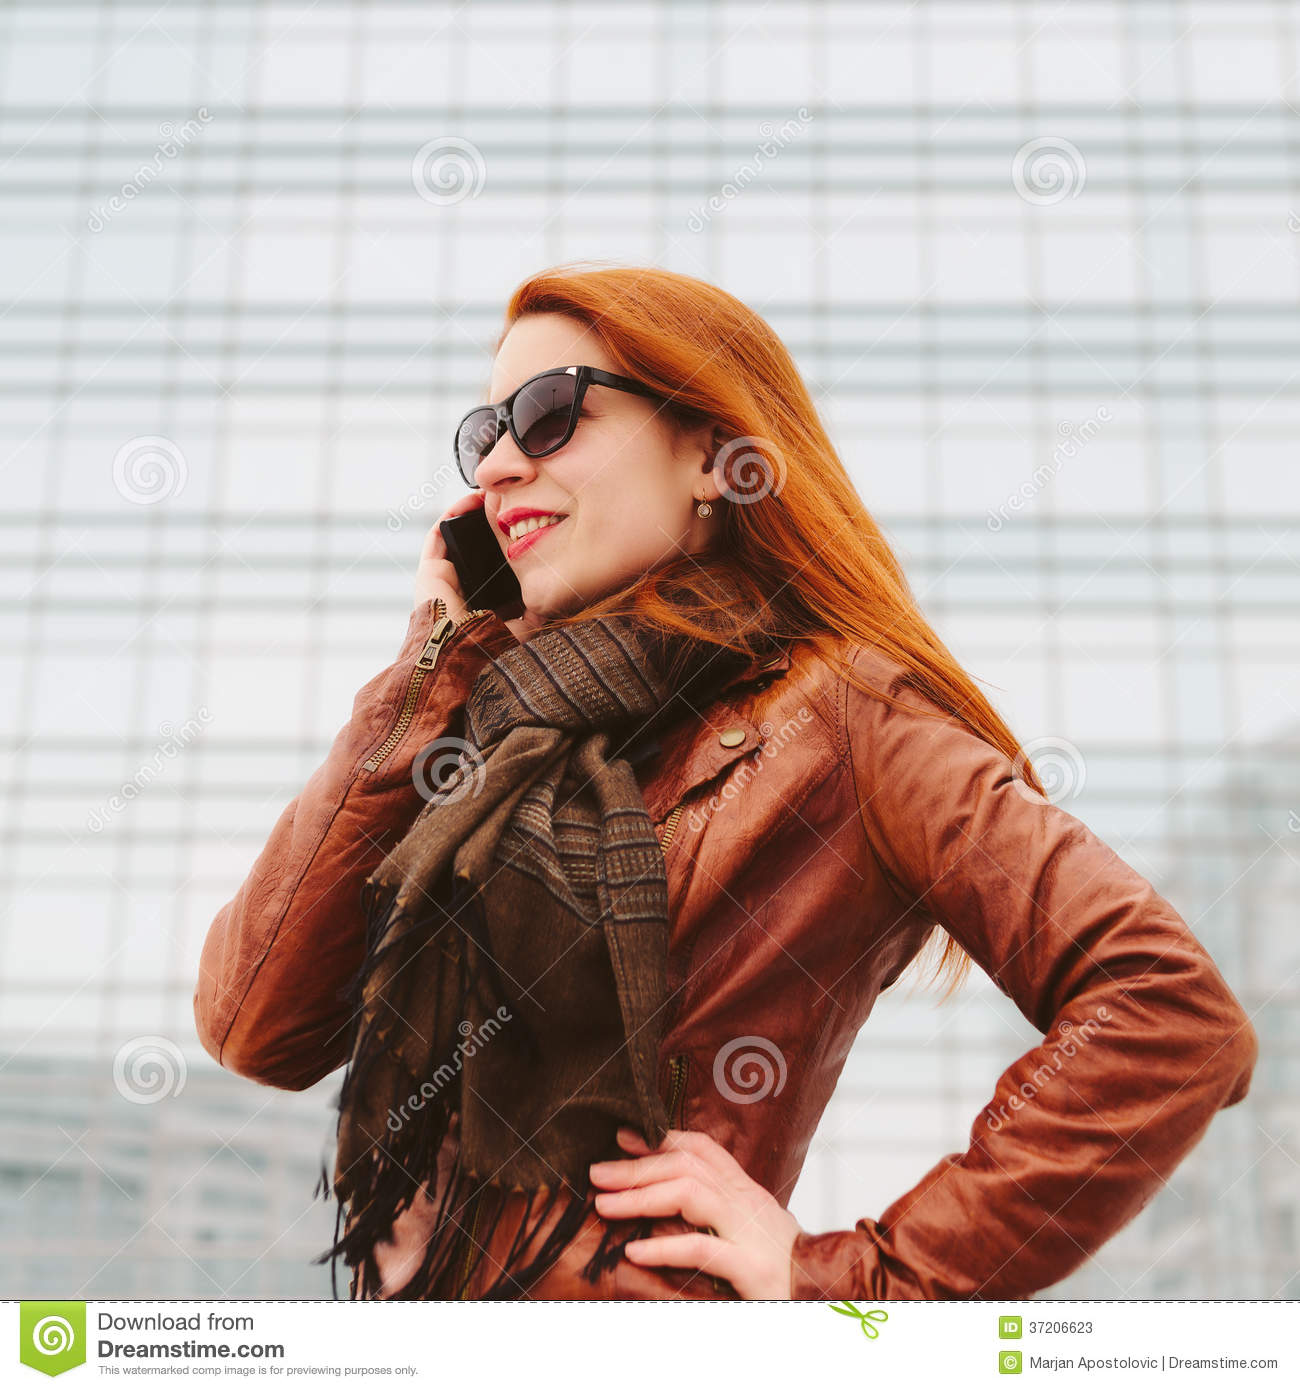talk: (411, 362, 615, 638)
